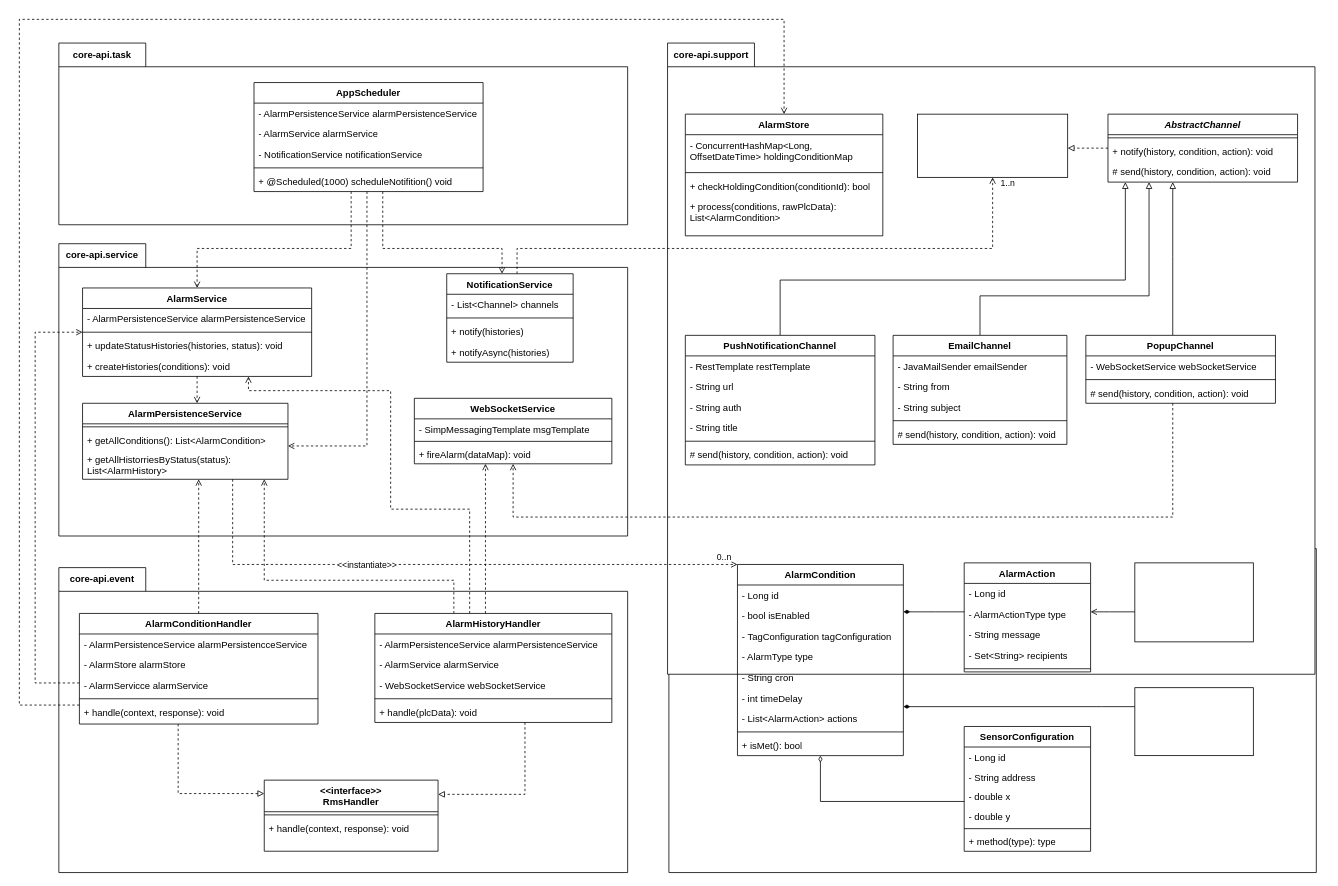
This 1338x886 diagram has some shape labels left out. Here are the shapes that lost their labels. From the top down, the centre of each, then its label:
pixel 992 145: <<Interface>> Channel + notify(history, condition, action)
pixel 1193 602: <<enumeration>> AlarmAtionType POPUP EMAIL PUSH_NOTIFICATION
pixel 1193 721: <<enumeration>> AlarmType PREDEFINED CUSTOM
